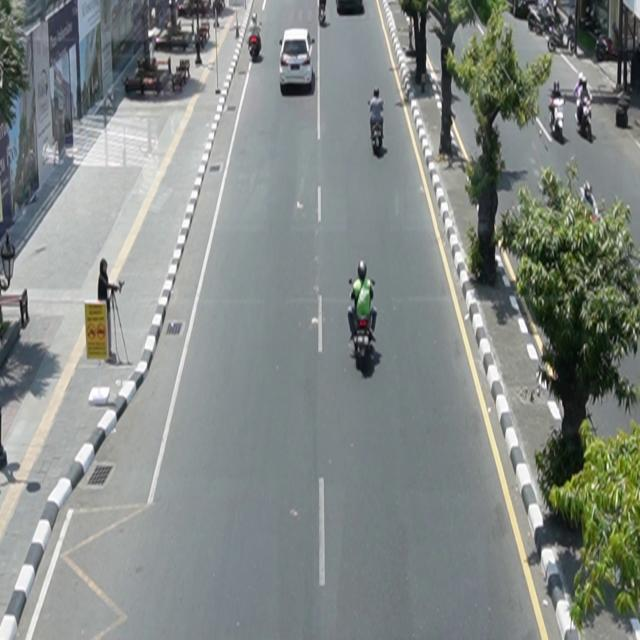car: (280, 29, 316, 91), (249, 27, 262, 59)
